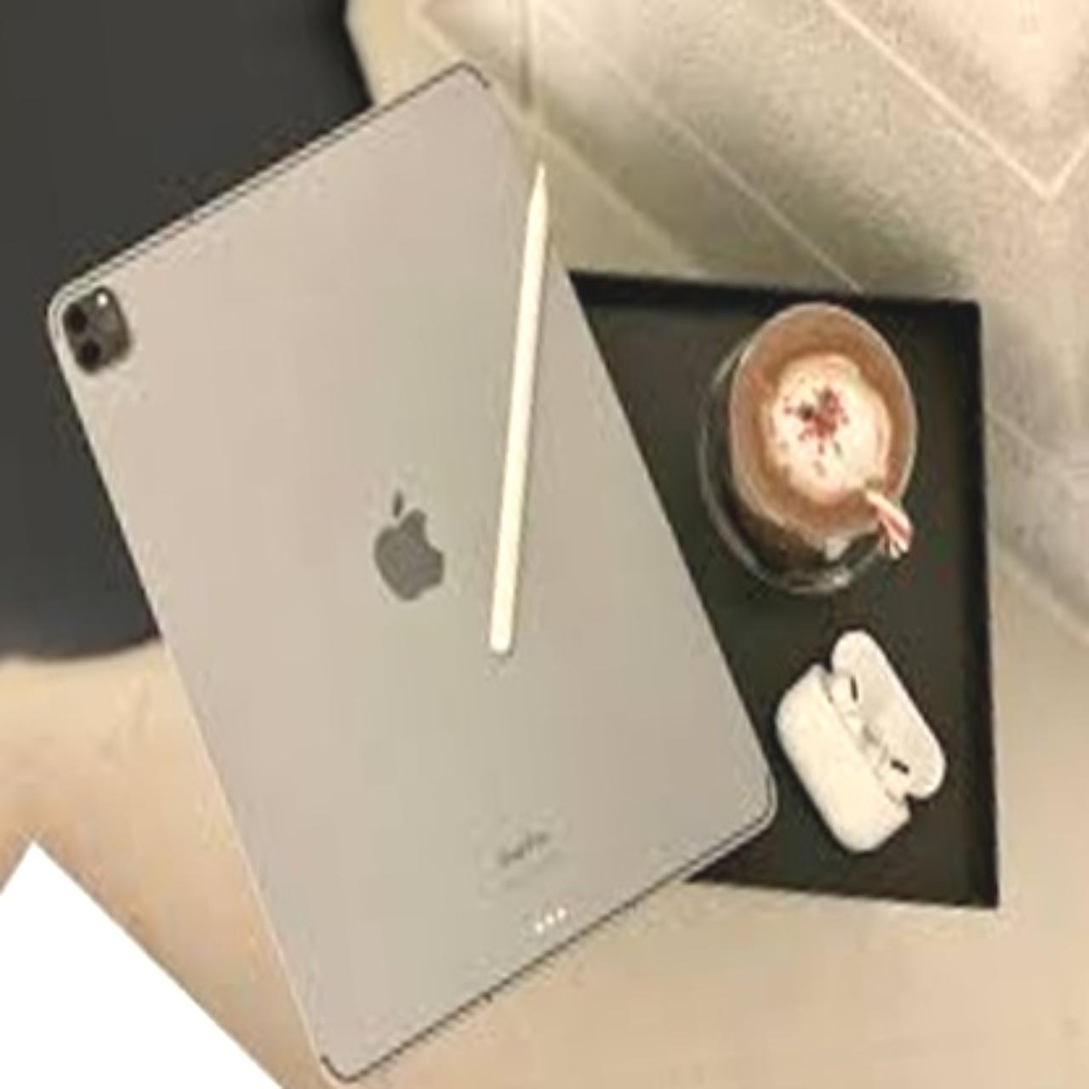Tablet_PC: (0, 9, 830, 1089)
